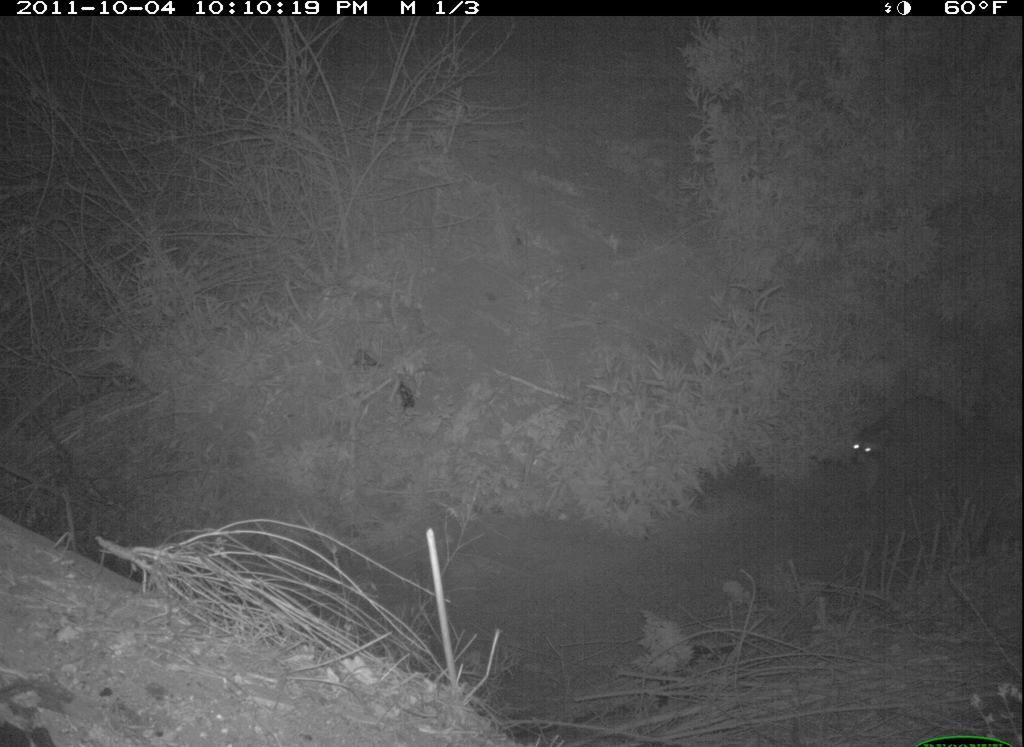raccoon: (848, 393, 995, 506)
